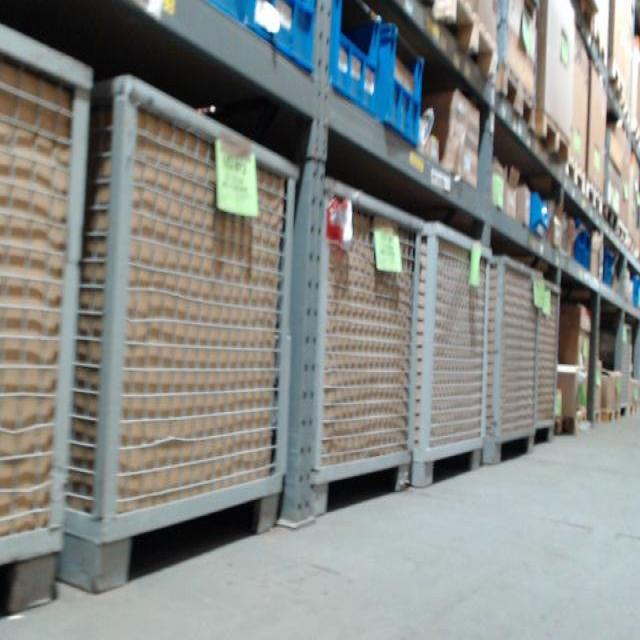pallet: (409, 1, 500, 83), (484, 60, 541, 133), (536, 112, 572, 178), (578, 7, 609, 70), (561, 153, 591, 202), (604, 62, 629, 113), (561, 407, 592, 437), (587, 185, 606, 224), (603, 404, 621, 423)
small_load_carrier: (308, 3, 385, 115), (372, 18, 428, 143), (246, 2, 328, 79), (196, 2, 246, 28), (599, 243, 614, 290), (575, 217, 585, 265), (584, 227, 593, 275)
stillage: (54, 46, 305, 599), (1, 2, 106, 622), (310, 172, 423, 516), (412, 210, 497, 492), (478, 235, 543, 471), (534, 274, 566, 457), (611, 319, 636, 414)
